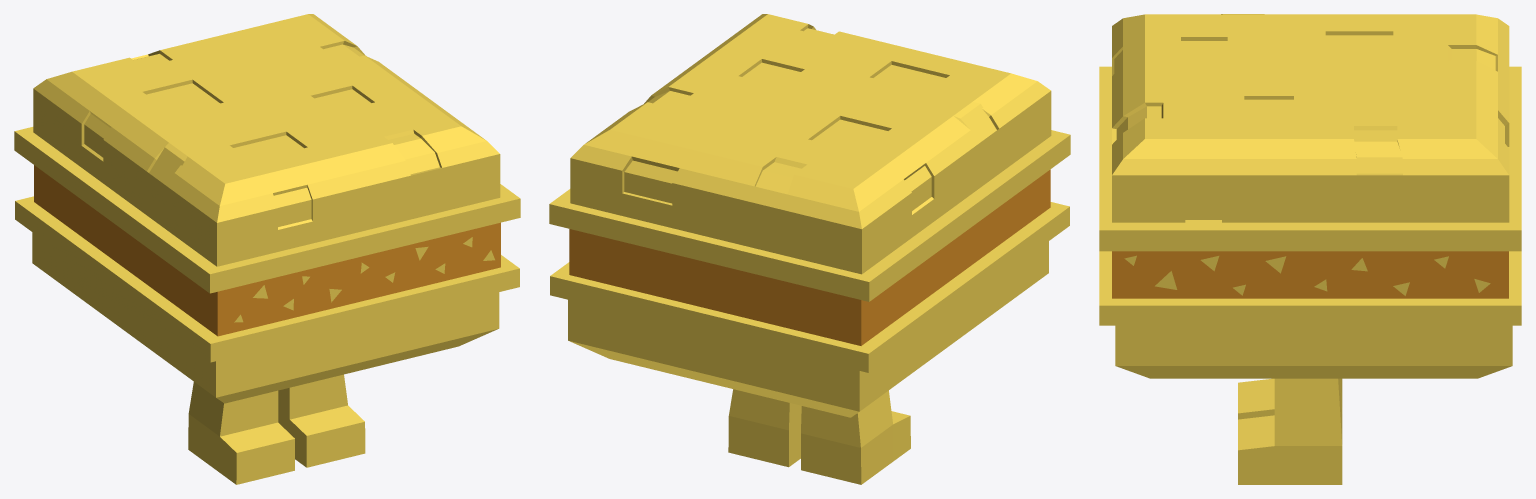
Rendered from st1_block4.fbx.
The picture shows the model from 3 angles, left to right: view 1: azimuth 30°, elevation 25°; view 2: azimuth 150°, elevation 25°; view 3: azimuth 270°, elevation 25°; orthographic projection. The views are drawn at different scales.
Visible parts, largest first — view 1: st1_block4_head, st1_block4_down, st1_block4_middle, st2_block4_L_leg, st2_block4_R_leg, st1_block4_triangle; view 2: st1_block4_head, st1_block4_down, st1_block4_middle, st2_block4_L_leg, st2_block4_R_leg; view 3: st1_block4_head, st1_block4_down, st1_block4_middle, st2_block4_R_leg, st2_block4_L_leg, st1_block4_triangle.
Boxes of the visible parts, x1,y1,x2,y2 form: st1_block4_head: (14, 14, 520, 293); st1_block4_down: (15, 196, 519, 403); st1_block4_middle: (34, 165, 500, 336); st2_block4_L_leg: (188, 382, 294, 484); st2_block4_R_leg: (278, 374, 365, 467); st1_block4_triangle: (234, 237, 494, 322); st1_block4_head: (549, 14, 1070, 301); st1_block4_down: (550, 202, 1069, 417); st1_block4_middle: (569, 169, 1050, 345); st2_block4_L_leg: (801, 390, 910, 484); st2_block4_R_leg: (728, 389, 801, 467); st1_block4_head: (1099, 14, 1521, 251); st1_block4_down: (1099, 251, 1521, 378); st1_block4_middle: (1112, 251, 1508, 298); st2_block4_R_leg: (1238, 378, 1342, 484); st2_block4_L_leg: (1238, 378, 1342, 419); st1_block4_triangle: (1124, 255, 1490, 295).
Bounding box in the file's own units: 447 × 475 × 487.
1 material, 1 textured.
